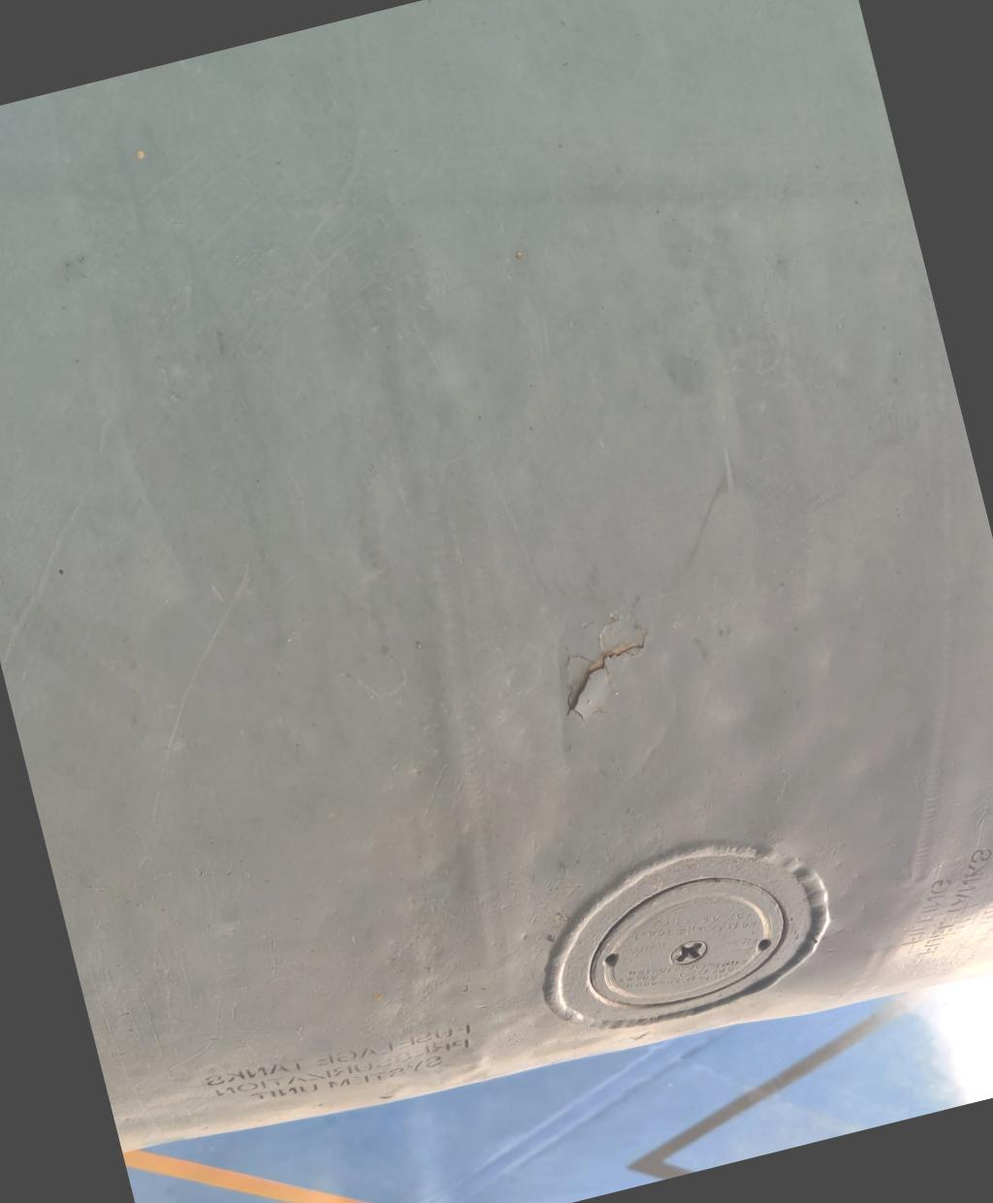crack: (527, 586, 680, 736)
